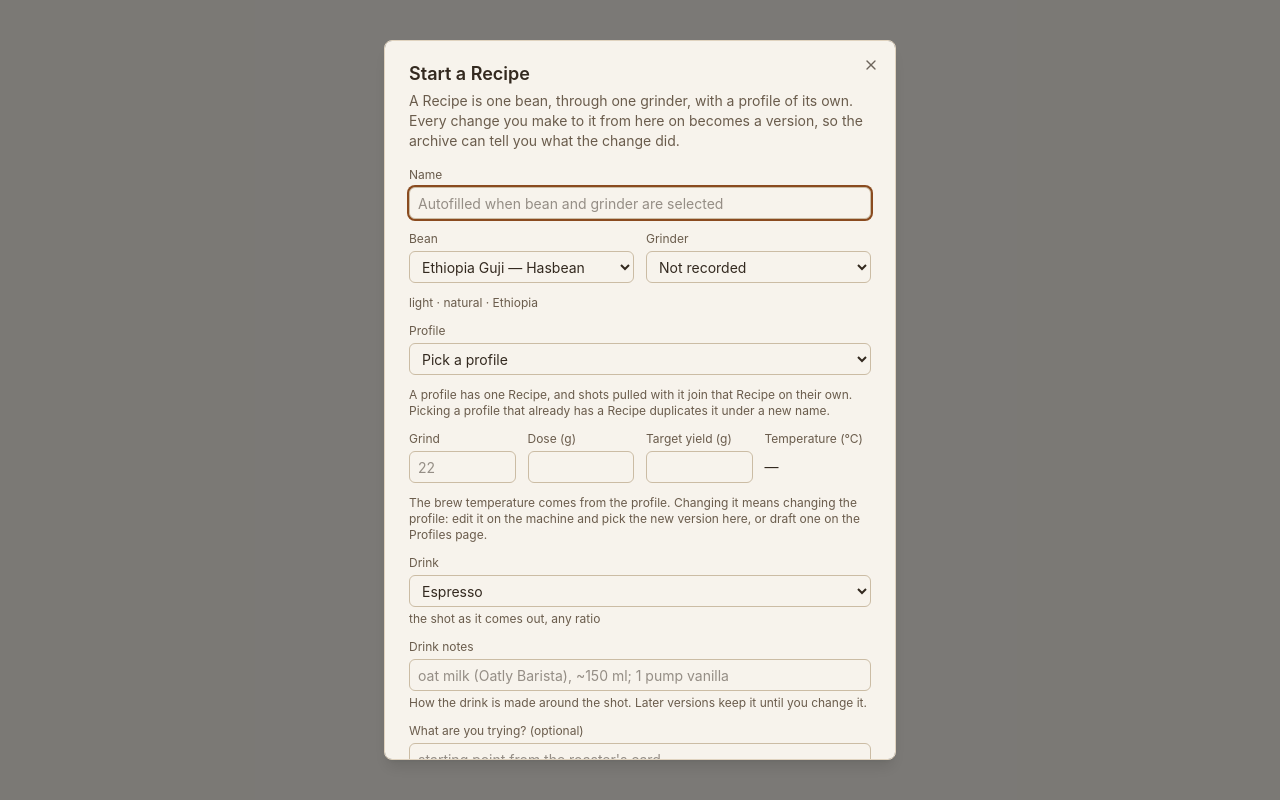
Scenario: NewRecipeDialog › the starting-point shortcut › is folded away until asked for
Select "Niche Zero" in the dropdown labelled "Grinder": (758, 267) [646, 251, 871, 283]
(page scrolled)
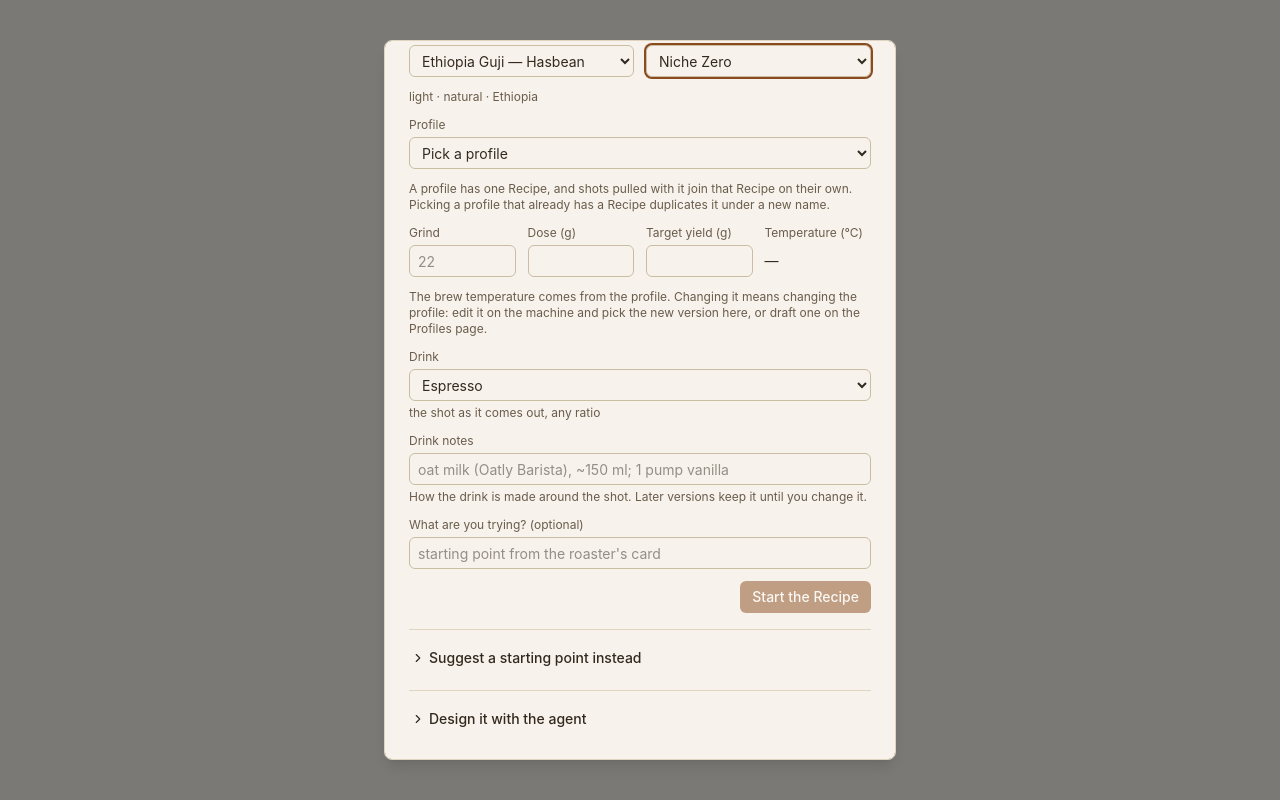
Click the button "Suggest a starting point instead": (526, 658) [401, 642, 652, 674]
(page scrolled)
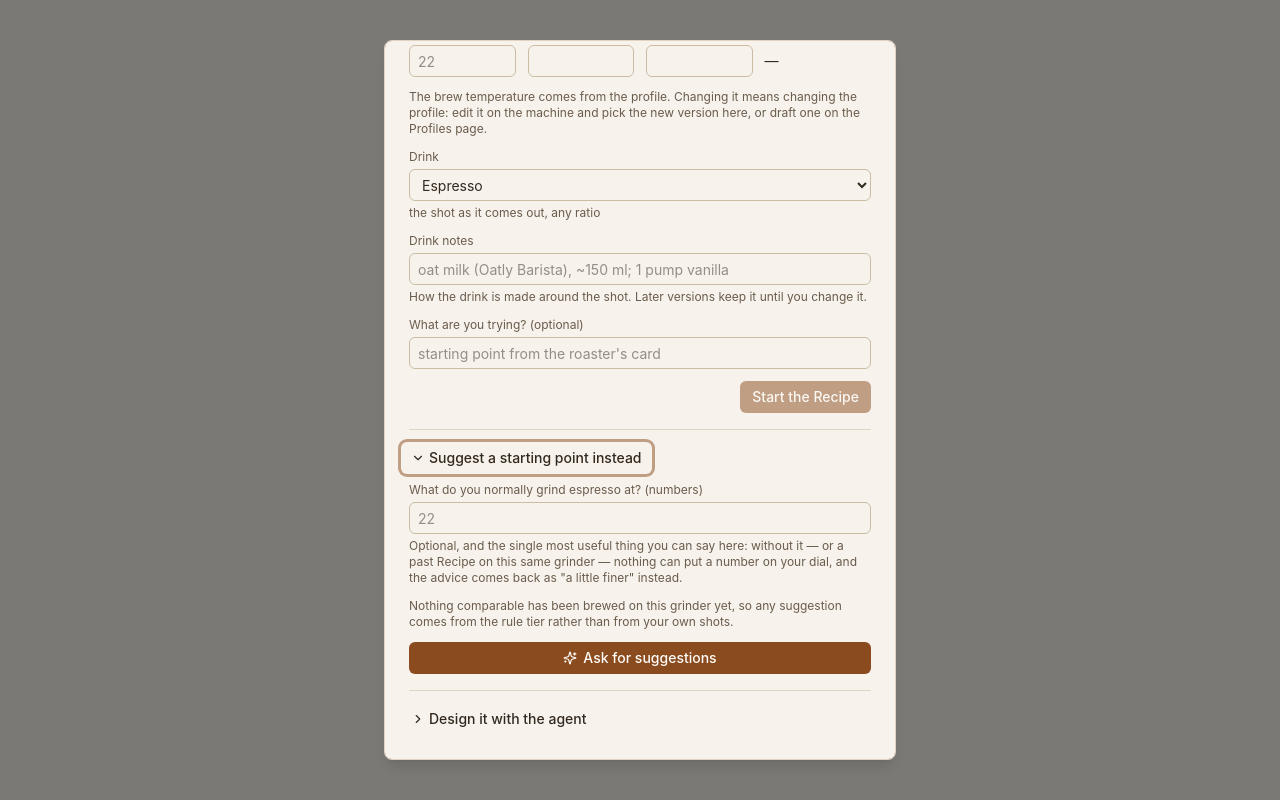
Expected: the button "Suggest a starting point instead" is expanded, [401, 442, 652, 474]
Expected: the element with test id "starting-point-step" is shown, [409, 482, 871, 674]
